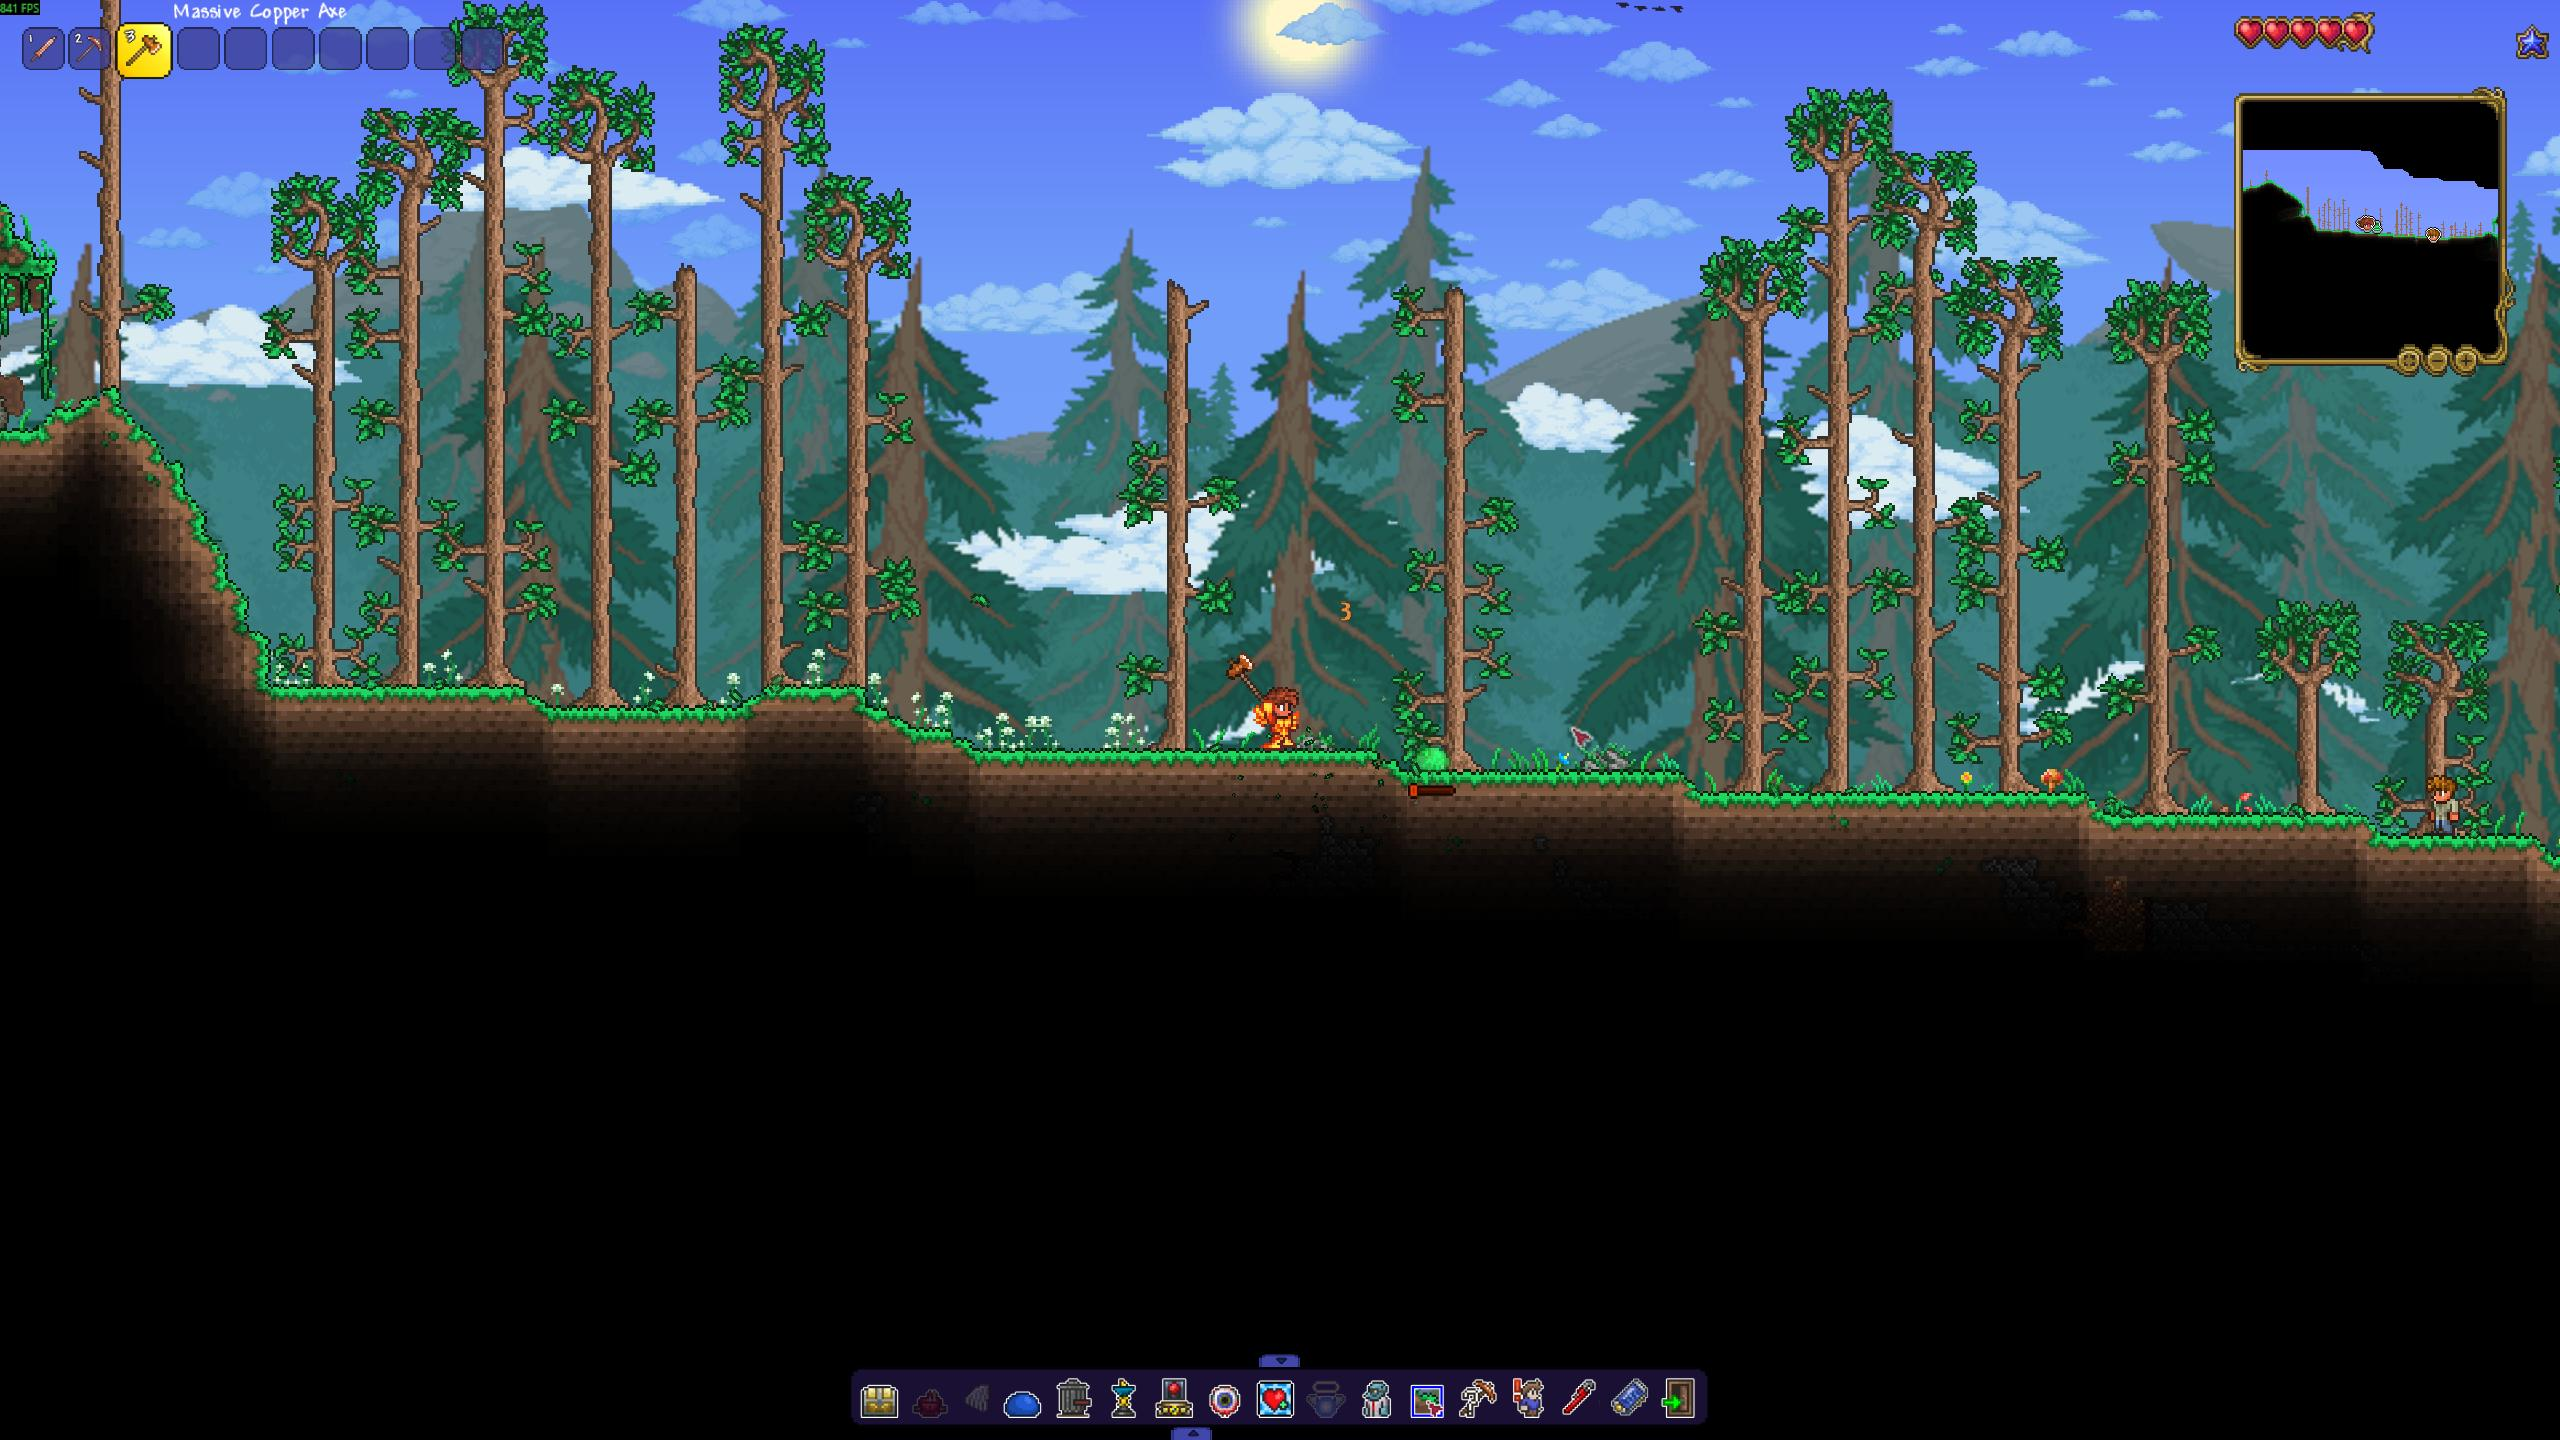Green Slime: (1408, 742, 1454, 774)
